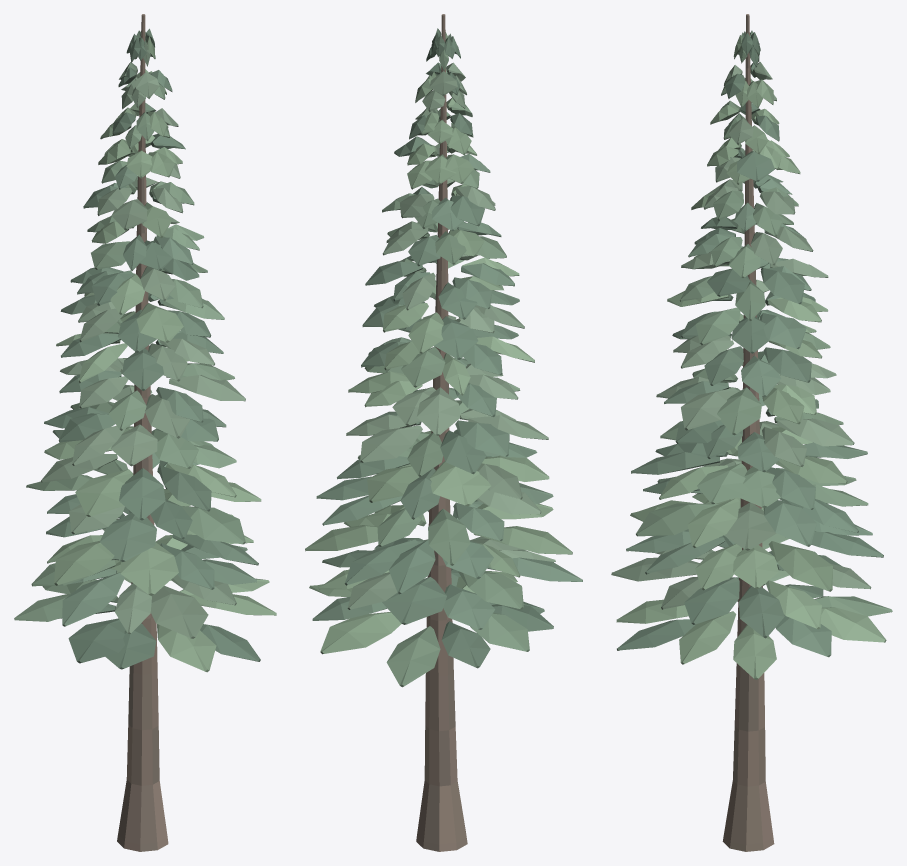
File: pine_tree_001_a_LOD0.gltf
The picture shows the model from 3 angles, left to right: view 1: azimuth 30°, elevation 25°; view 2: azimuth 150°, elevation 25°; view 3: azimuth 270°, elevation 25°; orthographic projection.
Visible parts, largest first — view 1: pine_tree_001_a_LOD0; view 2: pine_tree_001_a_LOD0; view 3: pine_tree_001_a_LOD0.
Part boxes in pixels (x1,y1,x2,y2): pine_tree_001_a_LOD0: (14, 14, 276, 851); pine_tree_001_a_LOD0: (305, 14, 582, 851); pine_tree_001_a_LOD0: (611, 14, 892, 851).
Bounding box in the file's own units: 6.87 × 22.64 × 6.99.
